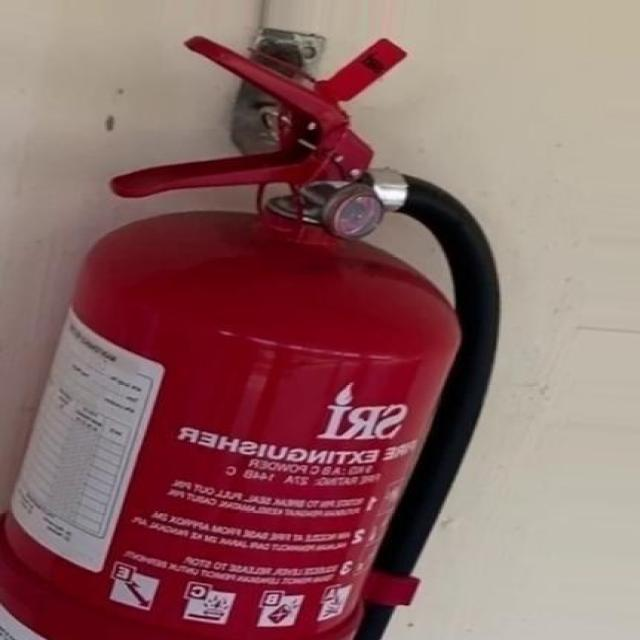fire_extinguisher: (0, 28, 503, 638)
